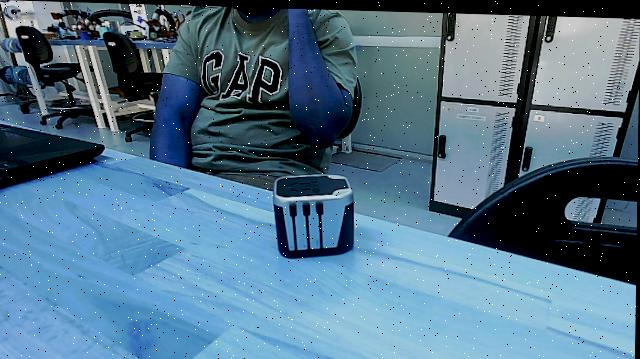adapter: (274, 166, 358, 262)
